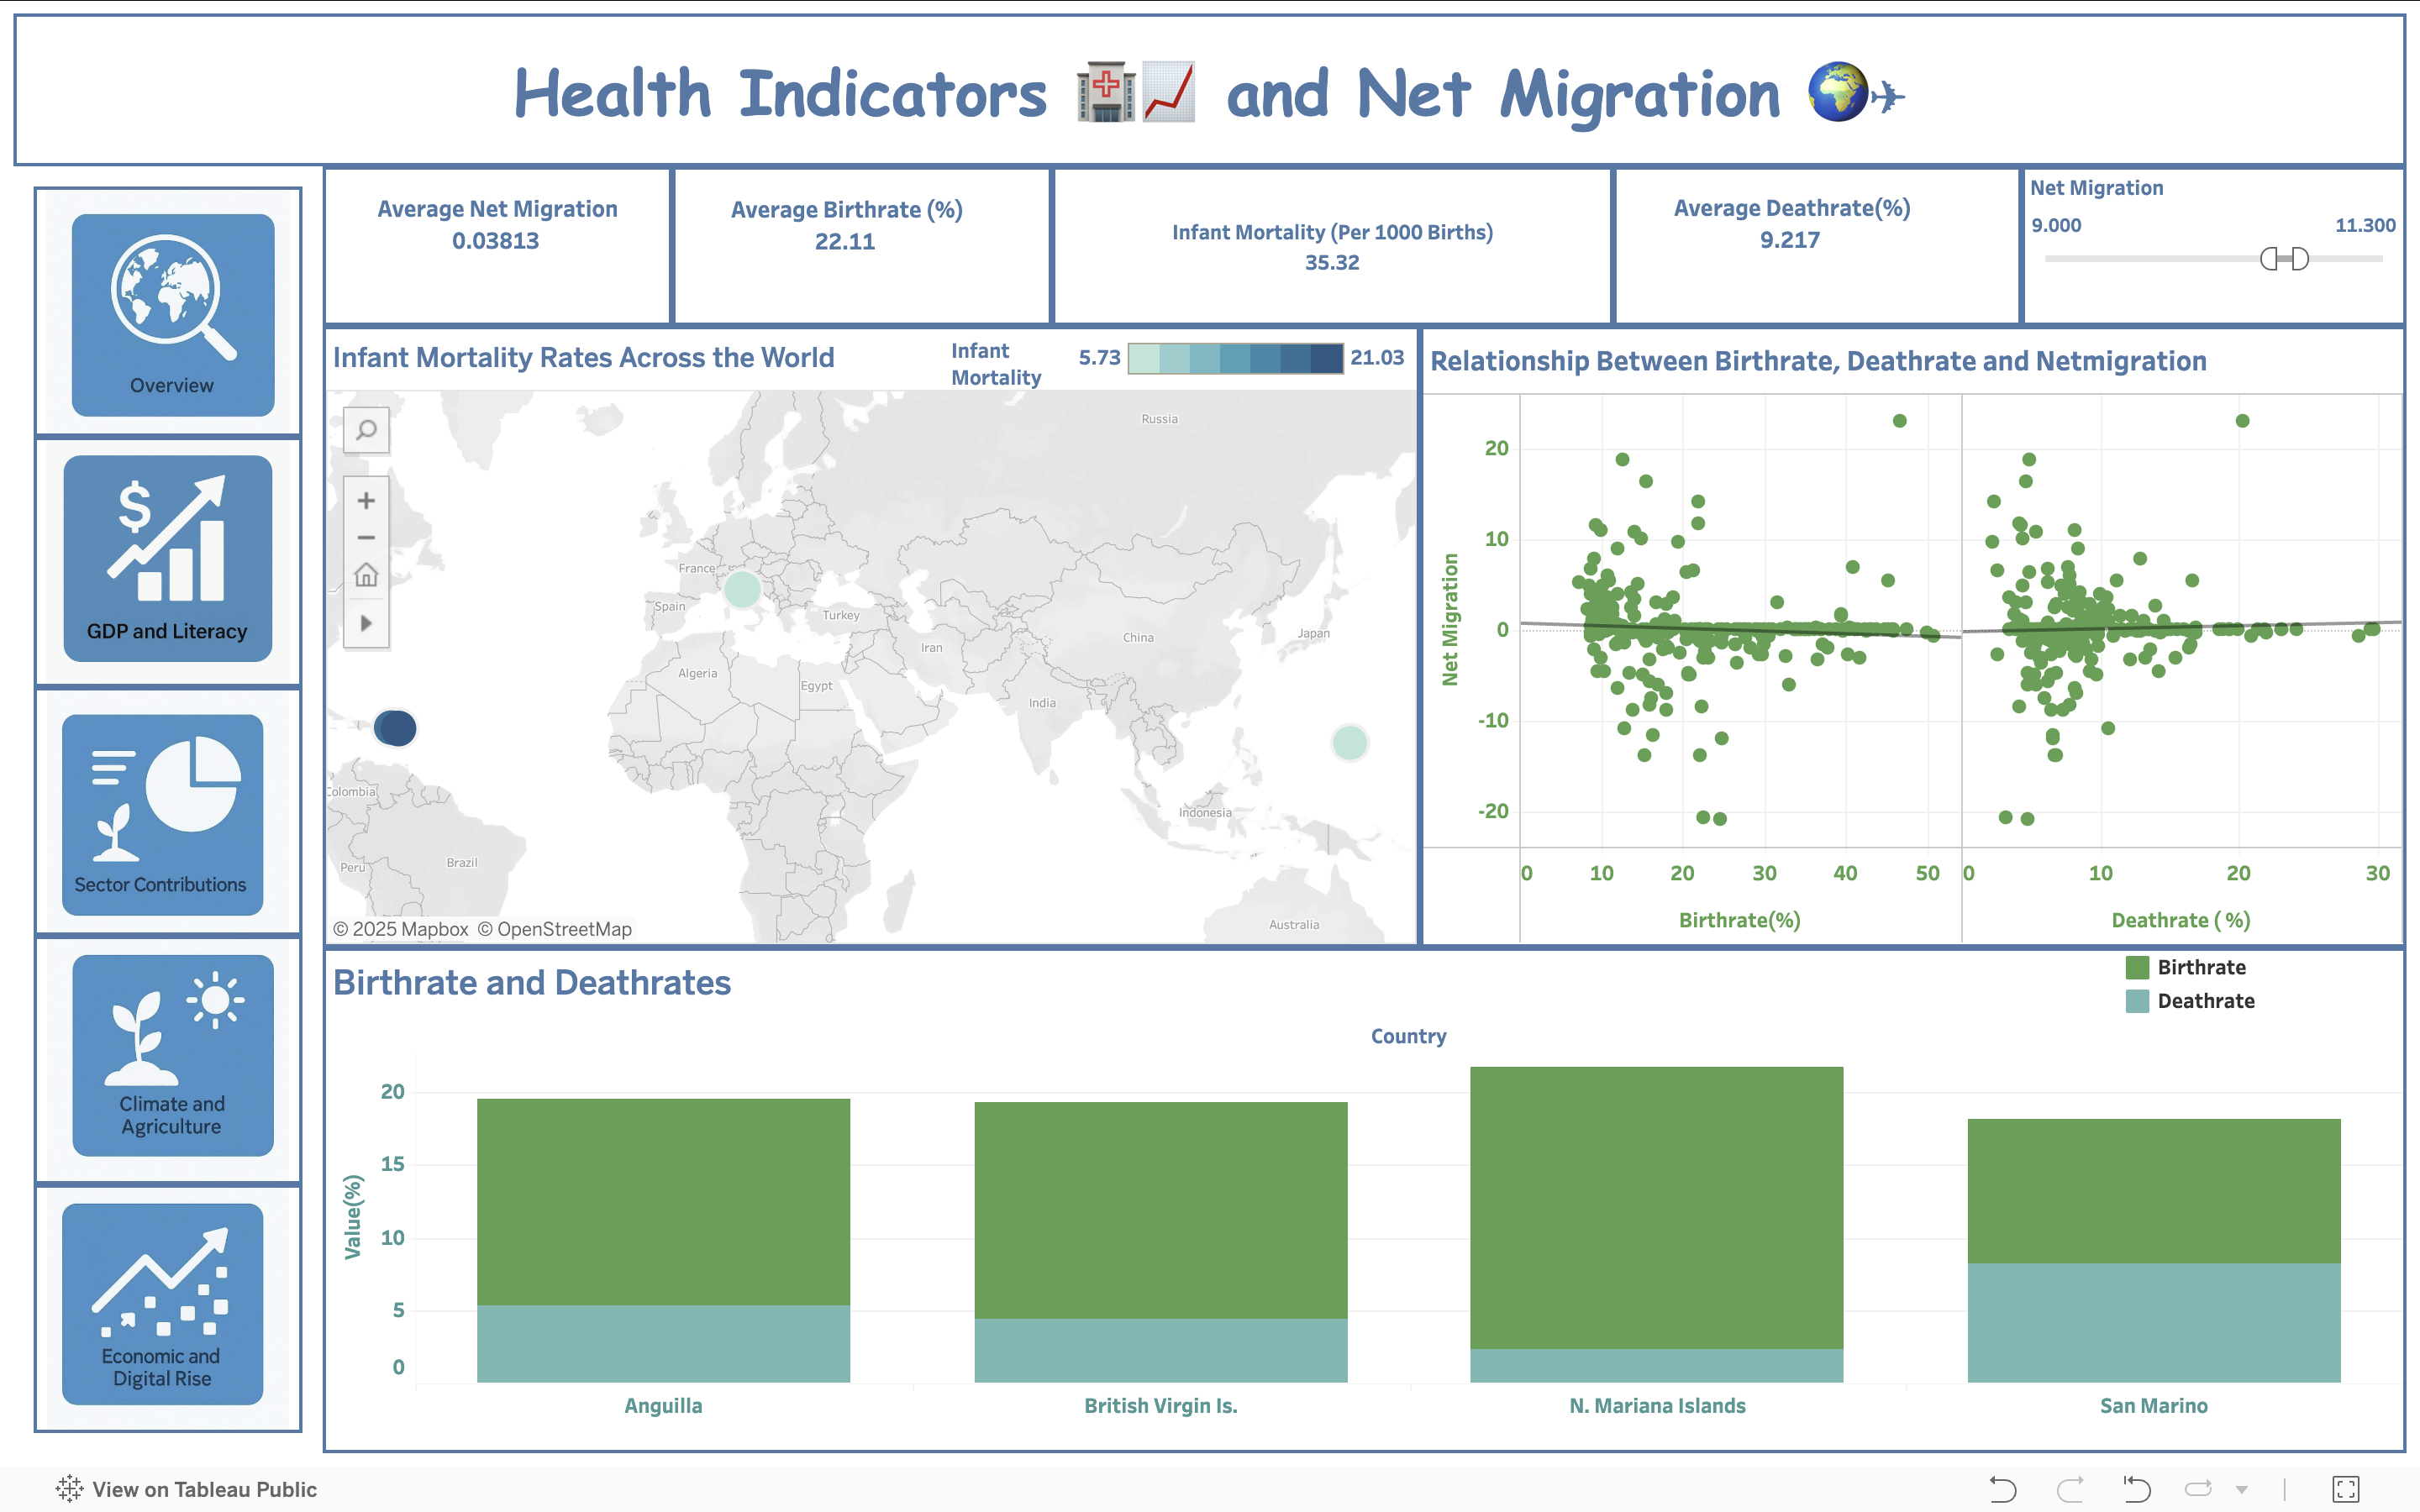

This screenshot's page, from the dashboard's own definition file:
{"tool":"tableau","page":{"name":"D6-Health indicators","canvas":[1000,1000],"units":"permille","ordinal":5},"visuals":[{"type":"text","box":[6.4,11.8,987.2,103.7]},{"type":"worksheet","title":"KPI- Avg Net Migr","mark":"Automatic","box":[134,115.6,166.8,107.7]},{"type":"worksheet","title":"KPI - Birthrate","mark":"Automatic","box":[300.8,115.6,181.2,107.7]},{"type":"worksheet","title":"KPI-Infant Mortality rate","mark":"Automatic","box":[482.1,115.6,184.5,107.7]},{"type":"worksheet","title":"KPI - Deathrate","mark":"Automatic","box":[666.6,115.6,168.2,107.7]},{"type":"filter","title":"Birth and Death rate","param":"[federated.1jd3lyw0j6hafg0znkj9u0xqlb94].[avg:net_migration:qk]","box":[834.8,115.6,158.8,107.7]},{"type":"dashboard-object","box":[16,133.1,108.3,168.6]},{"type":"worksheet","title":"Infant Mortality Map","mark":"Circle","box":[134,223.3,452.8,421.6]},{"type":"worksheet","title":"Corr - Deathrate and Birthrate","mark":"Automatic","rows":["net_migration"],"cols":["birthrate","deathrate"],"box":[586.8,223.3,406.8,421.6]},{"type":"legend","title":"Infant Mortality Map","param":"[federated.1jd3lyw0j6hafg0znkj9u0xqlb94].[avg:infant_mortality_per_1000_births:q","box":[392.9,229.3,190.9,50.3]},{"type":"dashboard-object","box":[16,301.8,108.3,167.2]},{"type":"dashboard-object","box":[16,468.9,108.3,167.2]},{"type":"dashboard-object","box":[16,636.1,108.3,167.2]},{"type":"worksheet","title":"Birth and Death rate","mark":"Automatic","cols":["country"],"box":[134,644.9,859.5,343.3]},{"type":"legend","title":"Birth and Death rate","param":"[federated.1jd3lyw0j6hafg0znkj9u0xqlb94].[:Measure Names]","box":[876.5,647.9,110.7,76.9]},{"type":"dashboard-object","box":[16,803.2,108.3,167.2]}]}

Visuals, with their boxes on the dashboard's canvas, which has no fixed pixel size, in thousandths of its width and height (x1, y1, x2, y2). These are canvas units, not pixel positions in the 2420x1512 screenshot, which may show the page scaled, cropped or inside an application window:
text: x1=6, y1=12, x2=994, y2=116
"KPI- Avg Net Migr" worksheet: x1=134, y1=116, x2=301, y2=223
"KPI - Birthrate" worksheet: x1=301, y1=116, x2=482, y2=223
"KPI-Infant Mortality rate" worksheet: x1=482, y1=116, x2=667, y2=223
"KPI - Deathrate" worksheet: x1=667, y1=116, x2=835, y2=223
"Birth and Death rate" filter: x1=835, y1=116, x2=994, y2=223
dashboard-object: x1=16, y1=133, x2=124, y2=302
"Infant Mortality Map" worksheet (Circle marks): x1=134, y1=223, x2=587, y2=645
"Corr - Deathrate and Birthrate" worksheet: x1=587, y1=223, x2=994, y2=645
"Infant Mortality Map" legend: x1=393, y1=229, x2=584, y2=280
dashboard-object: x1=16, y1=302, x2=124, y2=469
dashboard-object: x1=16, y1=469, x2=124, y2=636
dashboard-object: x1=16, y1=636, x2=124, y2=803
"Birth and Death rate" worksheet: x1=134, y1=645, x2=994, y2=988
"Birth and Death rate" legend: x1=876, y1=648, x2=987, y2=725
dashboard-object: x1=16, y1=803, x2=124, y2=970
